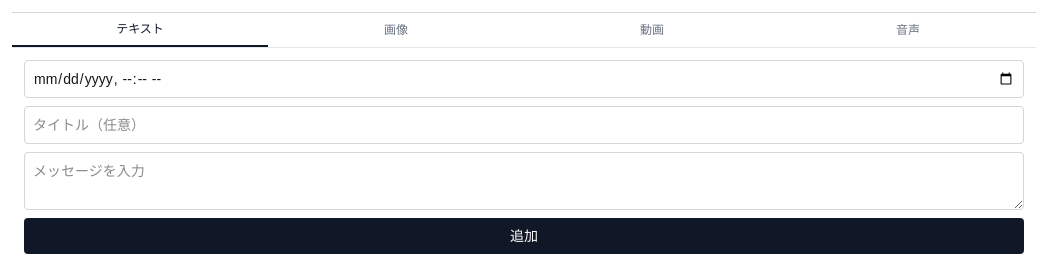
ChatComposer › does not show title field on audio tab
Click the button "音声": click(908, 30) [780, 13, 1036, 47]
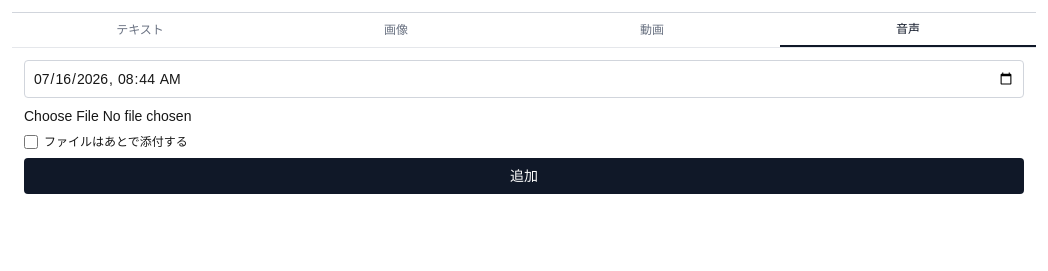
Check: the field with placeholder "タイトル（任意）" is gone
